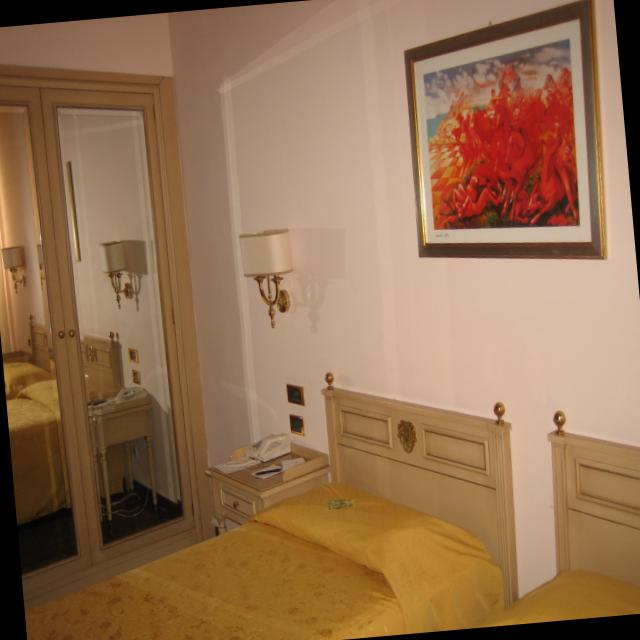bed -occluded-: (24, 372, 518, 640), (472, 411, 640, 627)
lamp crop: (238, 228, 291, 322)
mirror crop: (55, 106, 183, 545), (0, 107, 81, 581)
painting crop: (403, 0, 607, 261)
telephone booth: (222, 433, 291, 466)
wall clock: (167, 0, 640, 633), (0, 13, 216, 609)
